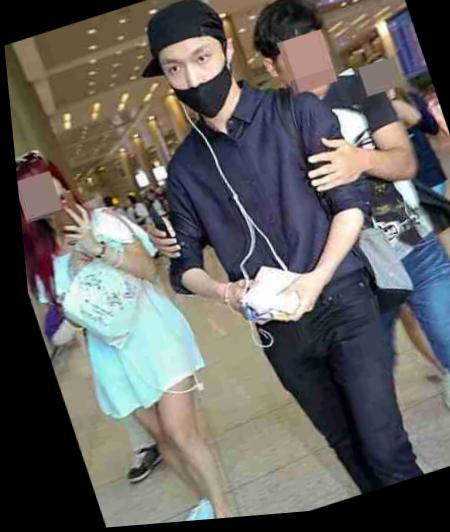WRONG: (154, 30, 247, 131)
